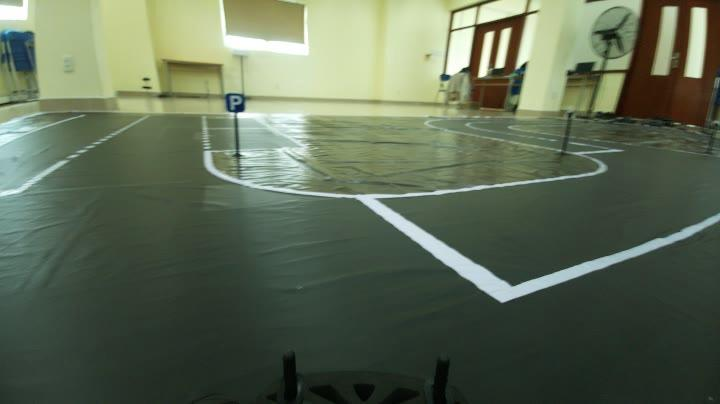parking: (222, 90, 252, 116)
